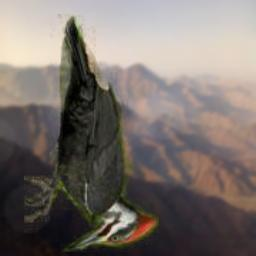Woodpecker: (24, 14, 159, 252)
